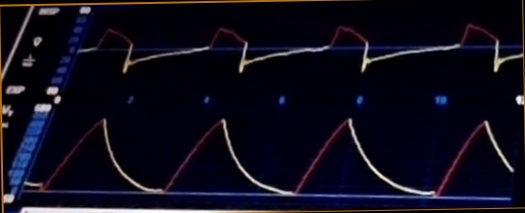Normal Flow: (78, 18, 525, 81)
Normal Volume: (52, 113, 513, 203)
